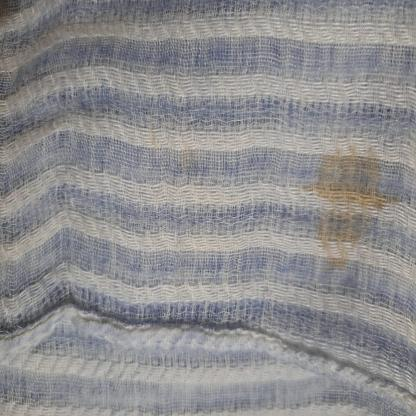spot: (305, 136, 401, 269)
